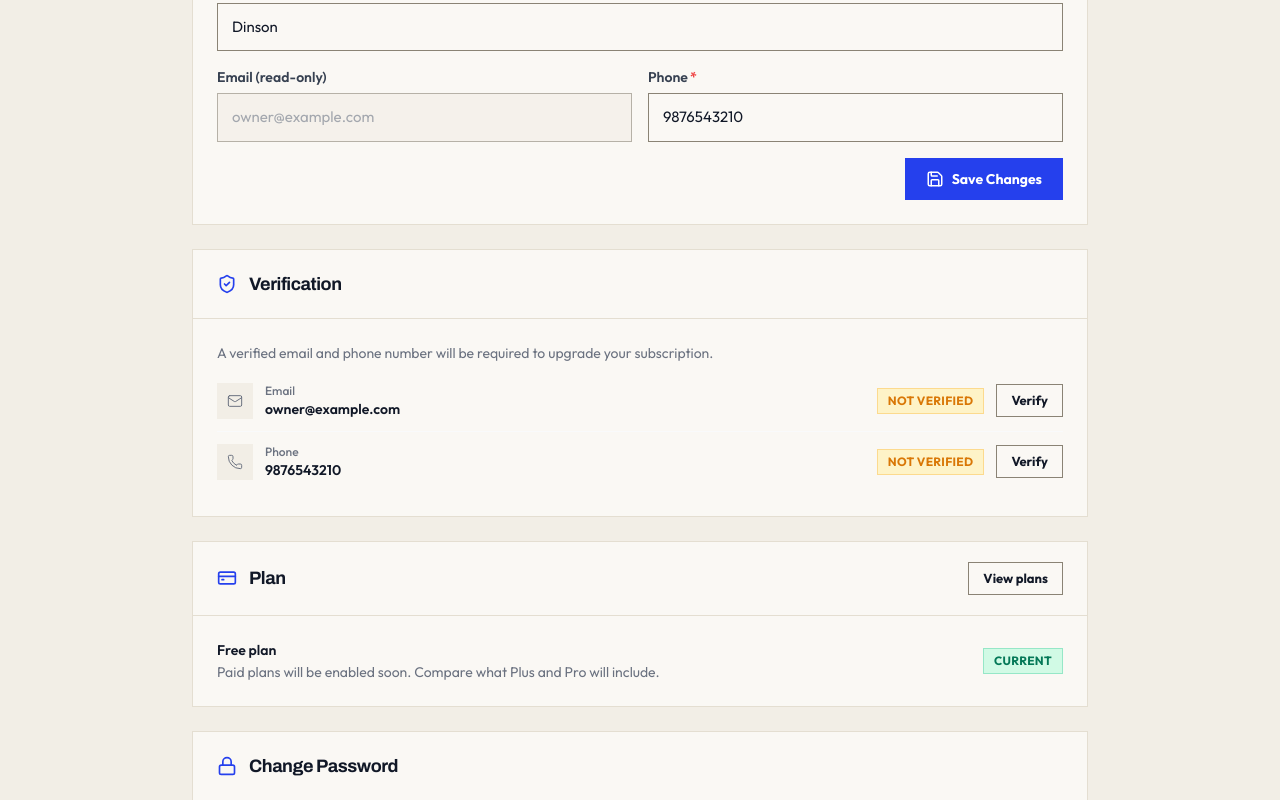
Settings — owner verification card › shows the cooldown message when sending is refused
(page scrolled)
Click the button with aria-label "Verify email". click: (1030, 401)
box: x1=996 y1=384 x2=1063 y2=417
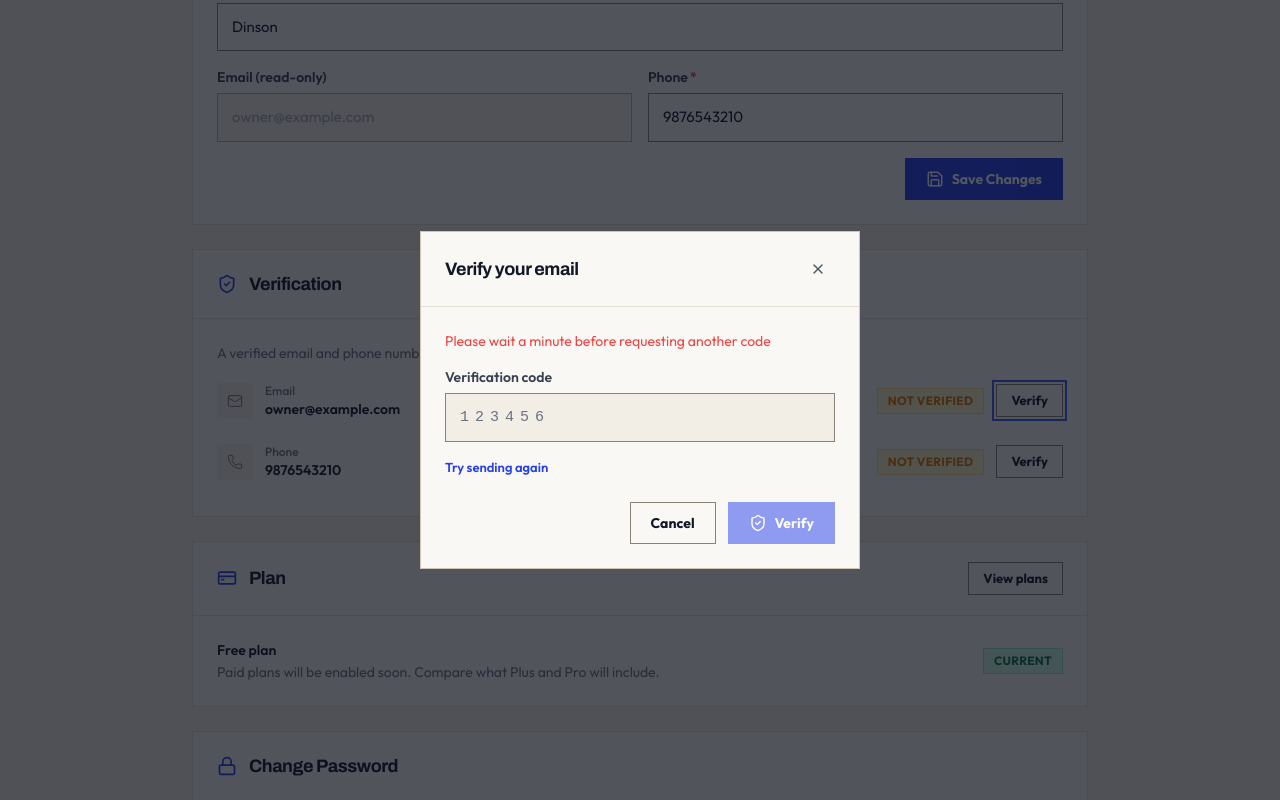
Result: the message reads "Please wait a minute before requesting another code" at x1=445 y1=332 x2=771 y2=350
Result: the field with placeholder "123456" is disabled at x1=445 y1=393 x2=835 y2=442
